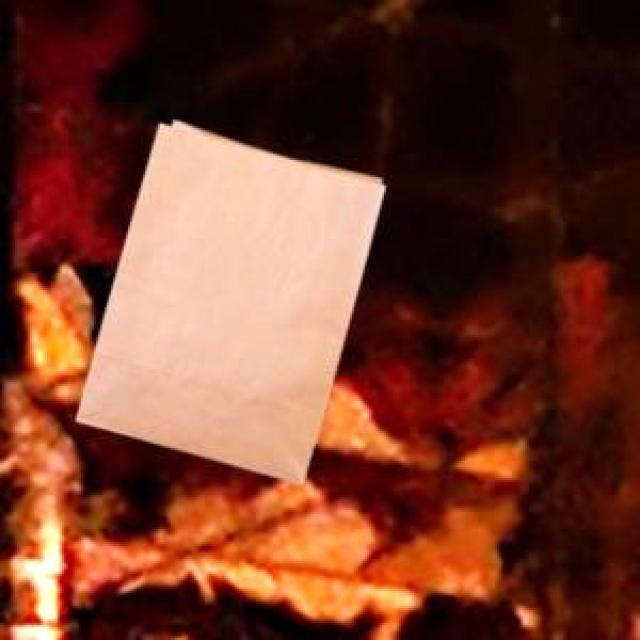Paper_Bag: (74, 118, 380, 481)
